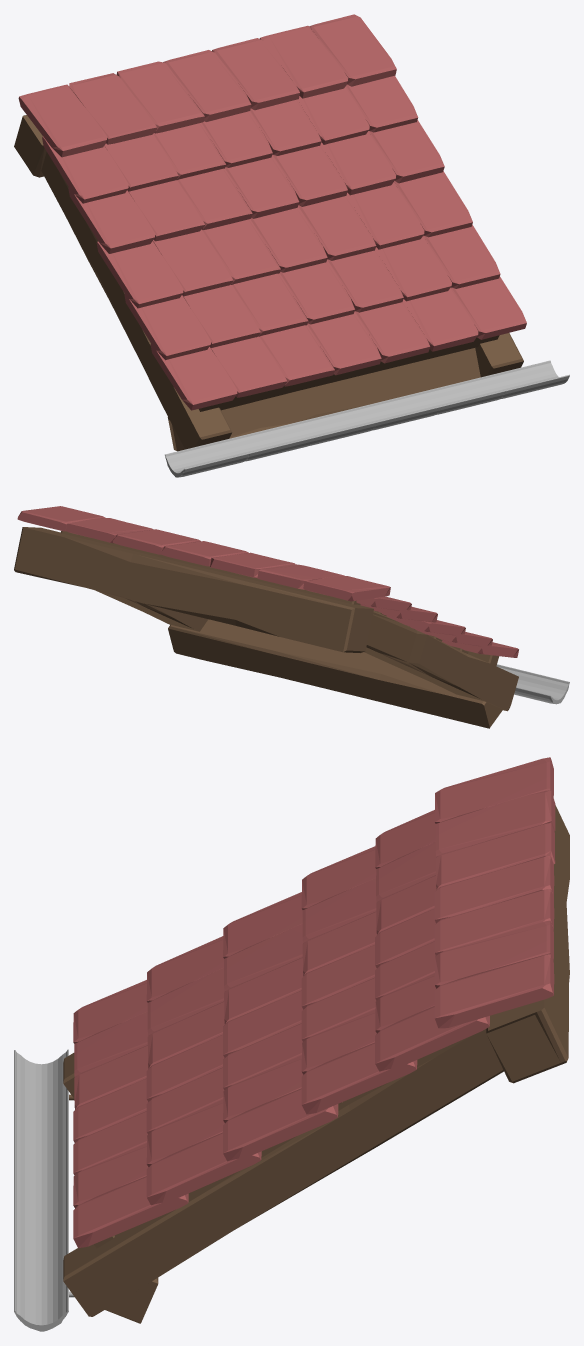
The model's file is PK_Roof_12.fbx.
The picture shows the model from 3 angles, top to bottom: view 1: azimuth 30°, elevation 25°; view 2: azimuth 150°, elevation 25°; view 3: azimuth 270°, elevation 25°; orthographic projection. The views are drawn at different scales.
Parts seen in each view (by area): view 1: PK_Roof_12; view 2: PK_Roof_12; view 3: PK_Roof_12.
Part boxes in pixels (left/top/right/bottom): PK_Roof_12: left=14, top=14, right=569, bottom=477; PK_Roof_12: left=14, top=506, right=569, bottom=728; PK_Roof_12: left=14, top=757, right=569, bottom=1331.
Size of the model in its own units: 262 by 162 by 235.
